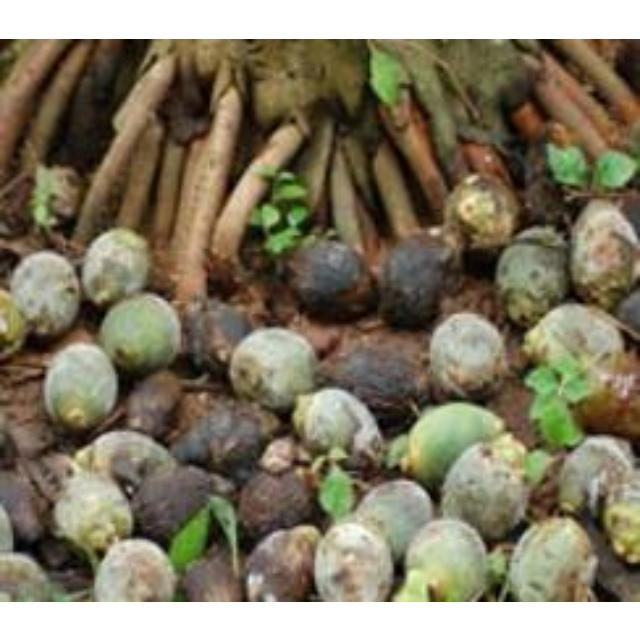damaged: (439, 440, 531, 540), (320, 337, 428, 421), (402, 402, 506, 488), (170, 399, 270, 481), (376, 231, 460, 327), (568, 198, 640, 308), (284, 236, 376, 322), (400, 516, 492, 602), (505, 516, 597, 602), (49, 472, 132, 562), (98, 293, 186, 377), (229, 326, 317, 409), (427, 310, 508, 400), (524, 302, 624, 374), (494, 230, 570, 324), (43, 342, 119, 433), (132, 464, 216, 546), (9, 250, 83, 342), (292, 386, 383, 460), (313, 520, 395, 602), (552, 434, 634, 516), (238, 463, 322, 542), (350, 480, 432, 560), (242, 524, 324, 602), (441, 173, 519, 253), (183, 298, 257, 377), (92, 536, 178, 602), (81, 228, 151, 306), (77, 429, 173, 485), (122, 369, 184, 439), (0, 464, 48, 546), (182, 546, 244, 600), (0, 552, 54, 602)
